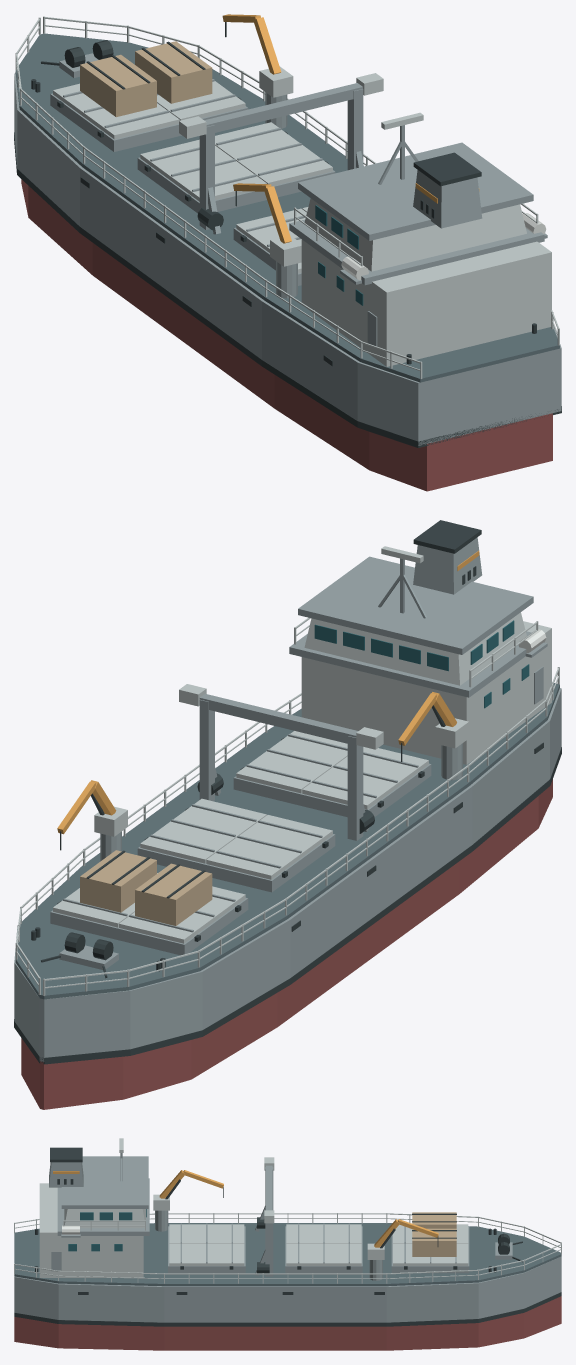
Rendered from ALLY_SupplyShip_Art.fbx.
The picture shows the model from 3 angles, top to bottom: view 1: azimuth 30°, elevation 25°; view 2: azimuth 150°, elevation 25°; view 3: azimuth 270°, elevation 25°; orthographic projection. The views are drawn at different scales.
Parts seen in each view (by area): view 1: UpperHull, FittedDeck, UnderwaterHull, AccommodationBlock, BridgeRoof, Wheelhouse, SteelHatchPanel.003, WaterlineBand, SecuredStores, SecuredStores.001, SteelHatchPanel.002, BridgeDeck (+16 smaller); view 2: UpperHull, FittedDeck, UnderwaterHull, AccommodationBlock, BridgeRoof, Wheelhouse, SteelHatchPanel.002, WaterlineBand, SteelHatchPanel.003, SteelHatchPanel.001, SecuredStores, SteelHatchPanel (+15 smaller); view 3: UpperHull, UnderwaterHull, FittedDeck, AccommodationBlock, BridgeRoof, WaterlineBand, SteelHatchPanel.003, SteelHatchPanel.001, SteelHatchPanel.002, SteelHatchPanel, Wheelhouse, SecuredStores.001 (+15 smaller).
Part boxes in pixels (x1=…): UpperHull: x1=14, y1=72, x2=561, y2=445; FittedDeck: x1=15, y1=33, x2=559, y2=382; UnderwaterHull: x1=21, y1=179, x2=552, y2=491; AccommodationBlock: x1=301, y1=239, x2=551, y2=366; BridgeRoof: x1=298, y1=142, x2=533, y2=240; Wheelhouse: x1=304, y1=198, x2=526, y2=271; SteelHatchPanel.003: x1=215, y1=122, x2=332, y2=185; WaterlineBand: x1=14, y1=132, x2=561, y2=447; SecuredStores: x1=80, y1=54, x2=156, y2=117; SecuredStores.001: x1=135, y1=41, x2=212, y2=103; SteelHatchPanel.002: x1=140, y1=139, x2=266, y2=201; BridgeDeck: x1=289, y1=219, x2=544, y2=285; UpperHull: x1=14, y1=688, x2=561, y2=1061; FittedDeck: x1=15, y1=682, x2=559, y2=999; UnderwaterHull: x1=21, y1=779, x2=552, y2=1109; AccommodationBlock: x1=301, y1=621, x2=551, y2=764; BridgeRoof: x1=298, y1=556, x2=533, y2=654; Wheelhouse: x1=304, y1=612, x2=526, y2=685; SteelHatchPanel.002: x1=206, y1=815, x2=332, y2=879; WaterlineBand: x1=14, y1=747, x2=561, y2=1064; SteelHatchPanel.003: x1=140, y1=798, x2=266, y2=863; SteelHatchPanel.001: x1=236, y1=731, x2=347, y2=793; SecuredStores: x1=135, y1=863, x2=212, y2=925; SteelHatchPanel: x1=302, y1=747, x2=428, y2=809; UpperHull: x1=14, y1=1256, x2=561, y2=1322; UnderwaterHull: x1=14, y1=1296, x2=561, y2=1350; FittedDeck: x1=14, y1=1223, x2=561, y2=1286; AccommodationBlock: x1=39, y1=1183, x2=143, y2=1277; BridgeRoof: x1=61, y1=1156, x2=148, y2=1208; WaterlineBand: x1=14, y1=1292, x2=561, y2=1326; SteelHatchPanel.003: x1=286, y1=1244, x2=361, y2=1265; SteelHatchPanel.001: x1=169, y1=1244, x2=244, y2=1265; SteelHatchPanel.002: x1=286, y1=1224, x2=361, y2=1243; SteelHatchPanel: x1=169, y1=1224, x2=244, y2=1243; Wheelhouse: x1=64, y1=1209, x2=145, y2=1228; SecuredStores.001: x1=412, y1=1228, x2=456, y2=1256.
Bounding box in the file's own units: 423 × 560 × 1553.
